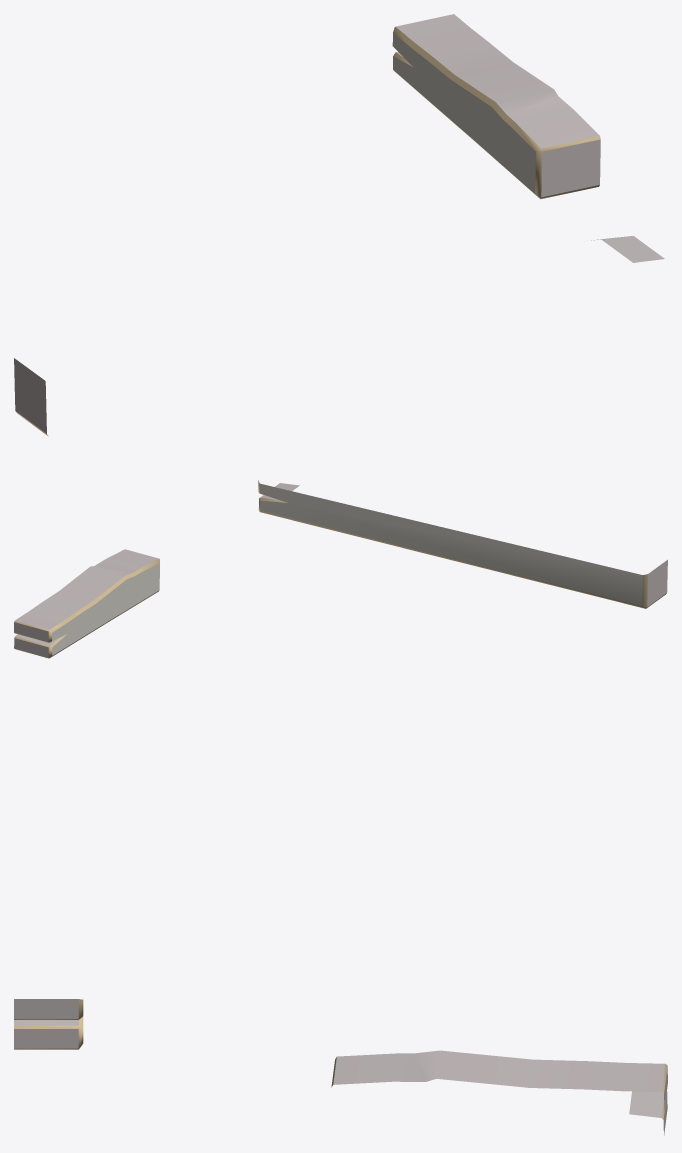
File: WoodBoardBeams.glb
3 views of the same model, one above another, from view 1: azimuth 30°, elevation 25°; view 2: azimuth 150°, elevation 25°; view 3: azimuth 270°, elevation 25° (orthographic). The views are drawn at different scales.
Visible parts, largest first — view 1: WoodBoardBeams; view 2: WoodBoardBeams; view 3: WoodBoardBeams.
Part boxes in pixels (x1,y1,x2,y2): WoodBoardBeams: [14, 14, 664, 436]; WoodBoardBeams: [14, 480, 667, 658]; WoodBoardBeams: [14, 998, 667, 1135].
Size of the model in its own units: 7.06 by 0.8762 by 5.39.
